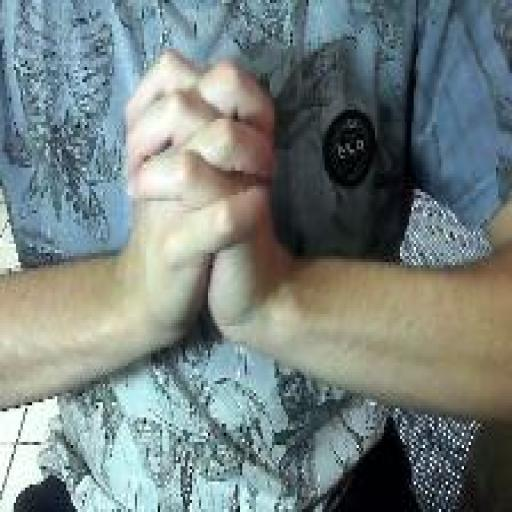Mi -snake-: (120, 44, 280, 346)
